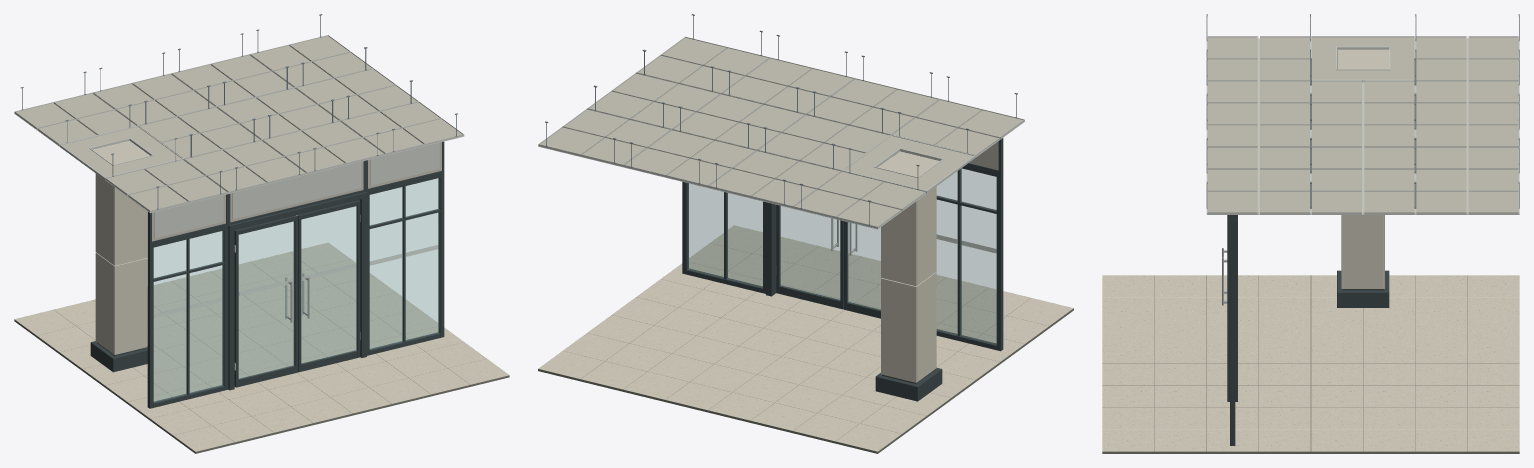
File: fit-study.glb
3 renders of one model, left to right at view 1: azimuth 30°, elevation 25°; view 2: azimuth 150°, elevation 25°; view 3: azimuth 270°, elevation 25°, orthographic. The views are drawn at different scales.
Parts seen in each view (by area): view 1: GLASS_Left, GLASS_Right, GLASS_Right_Lower, GLASS_Right_Lower.001, GLASS_Left_Lower.001, GLASS_Left_Lower, SIGN_ReplaceableFace, CLADDING_Front_Lower, CLADDING_Front_Upper, SIGN_ReplaceableFace.001, SIGN_ReplaceableFace.002, CLADDING_Left_Lower (+128 smaller); view 2: GLASS_Right, GLASS_Left_Lower, CLADDING_Back_Lower, GLASS_Left_Lower.001, GLASS_Right_Lower.001, GLASS_Right_Lower, GLASS_Left, CLADDING_Back_Upper, CLADDING_Left_Lower, CLADDING_Left_Upper, POST_Left, GLASS_Left_Upper (+110 smaller); view 3: CLADDING_Right_Lower, MODULE_Tile_1, MODULE_Tile_2, MODULE_Tile_3.003, MODULE_Tile_4.003, MODULE_Tile_1.004, MODULE_Tile_2.004, MODULE_Tile_3.006, MODULE_Tile_4.006, MODULE_Tile_3.007, MODULE_Tile_4.007, MODULE_Tile_2.008 (+105 smaller).
Part boxes in pixels (left/top/right/bottom): GLASS_Left: left=239, top=221, right=294, bottom=378; GLASS_Right: left=301, top=206, right=356, bottom=363; GLASS_Right_Lower: left=190, top=265, right=223, bottom=393; GLASS_Right_Lower.001: left=406, top=212, right=439, bottom=340; GLASS_Left_Lower.001: left=370, top=221, right=402, bottom=349; GLASS_Left_Lower: left=154, top=274, right=186, bottom=402; SIGN_ReplaceableFace: left=232, top=162, right=361, bottom=219; CLADDING_Front_Lower: left=114, top=258, right=147, bottom=354; CLADDING_Front_Upper: left=114, top=187, right=147, bottom=265; SIGN_ReplaceableFace.001: left=154, top=195, right=223, bottom=238; SIGN_ReplaceableFace.002: left=370, top=142, right=439, bottom=185; CLADDING_Left_Lower: left=96, top=253, right=113, bottom=354; GLASS_Right: left=780, top=206, right=839, bottom=300; GLASS_Left_Lower: left=960, top=205, right=996, bottom=344; CLADDING_Back_Lower: left=881, top=278, right=917, bottom=382; GLASS_Left_Lower.001: left=727, top=193, right=762, bottom=287; GLASS_Right_Lower.001: left=688, top=183, right=723, bottom=277; GLASS_Right_Lower: left=936, top=200, right=957, bottom=334; GLASS_Left: left=847, top=222, right=880, bottom=310; CLADDING_Back_Upper: left=881, top=201, right=917, bottom=286; CLADDING_Left_Lower: left=917, top=272, right=935, bottom=381; CLADDING_Left_Upper: left=917, top=187, right=935, bottom=285; POST_Left: left=996, top=172, right=1003, bottom=351; GLASS_Left_Upper: left=960, top=168, right=996, bottom=210; CLADDING_Right_Lower: left=1343, top=215, right=1383, bottom=288; MODULE_Tile_1: left=1102, top=275, right=1154, bottom=297; MODULE_Tile_2: left=1102, top=297, right=1154, bottom=319; MODULE_Tile_3.003: left=1467, top=275, right=1519, bottom=297; MODULE_Tile_4.003: left=1467, top=297, right=1519, bottom=319; MODULE_Tile_1.004: left=1102, top=319, right=1154, bottom=341; MODULE_Tile_2.004: left=1102, top=341, right=1154, bottom=363; MODULE_Tile_3.006: left=1363, top=319, right=1415, bottom=341; MODULE_Tile_4.006: left=1363, top=341, right=1415, bottom=363; MODULE_Tile_3.007: left=1467, top=319, right=1519, bottom=341; MODULE_Tile_4.007: left=1467, top=341, right=1519, bottom=363; MODULE_Tile_2.008: left=1102, top=385, right=1154, bottom=407.
Bounding box in the file's own units: 4.8 × 3.39 × 4.8.
127 materials, 27 textured.
